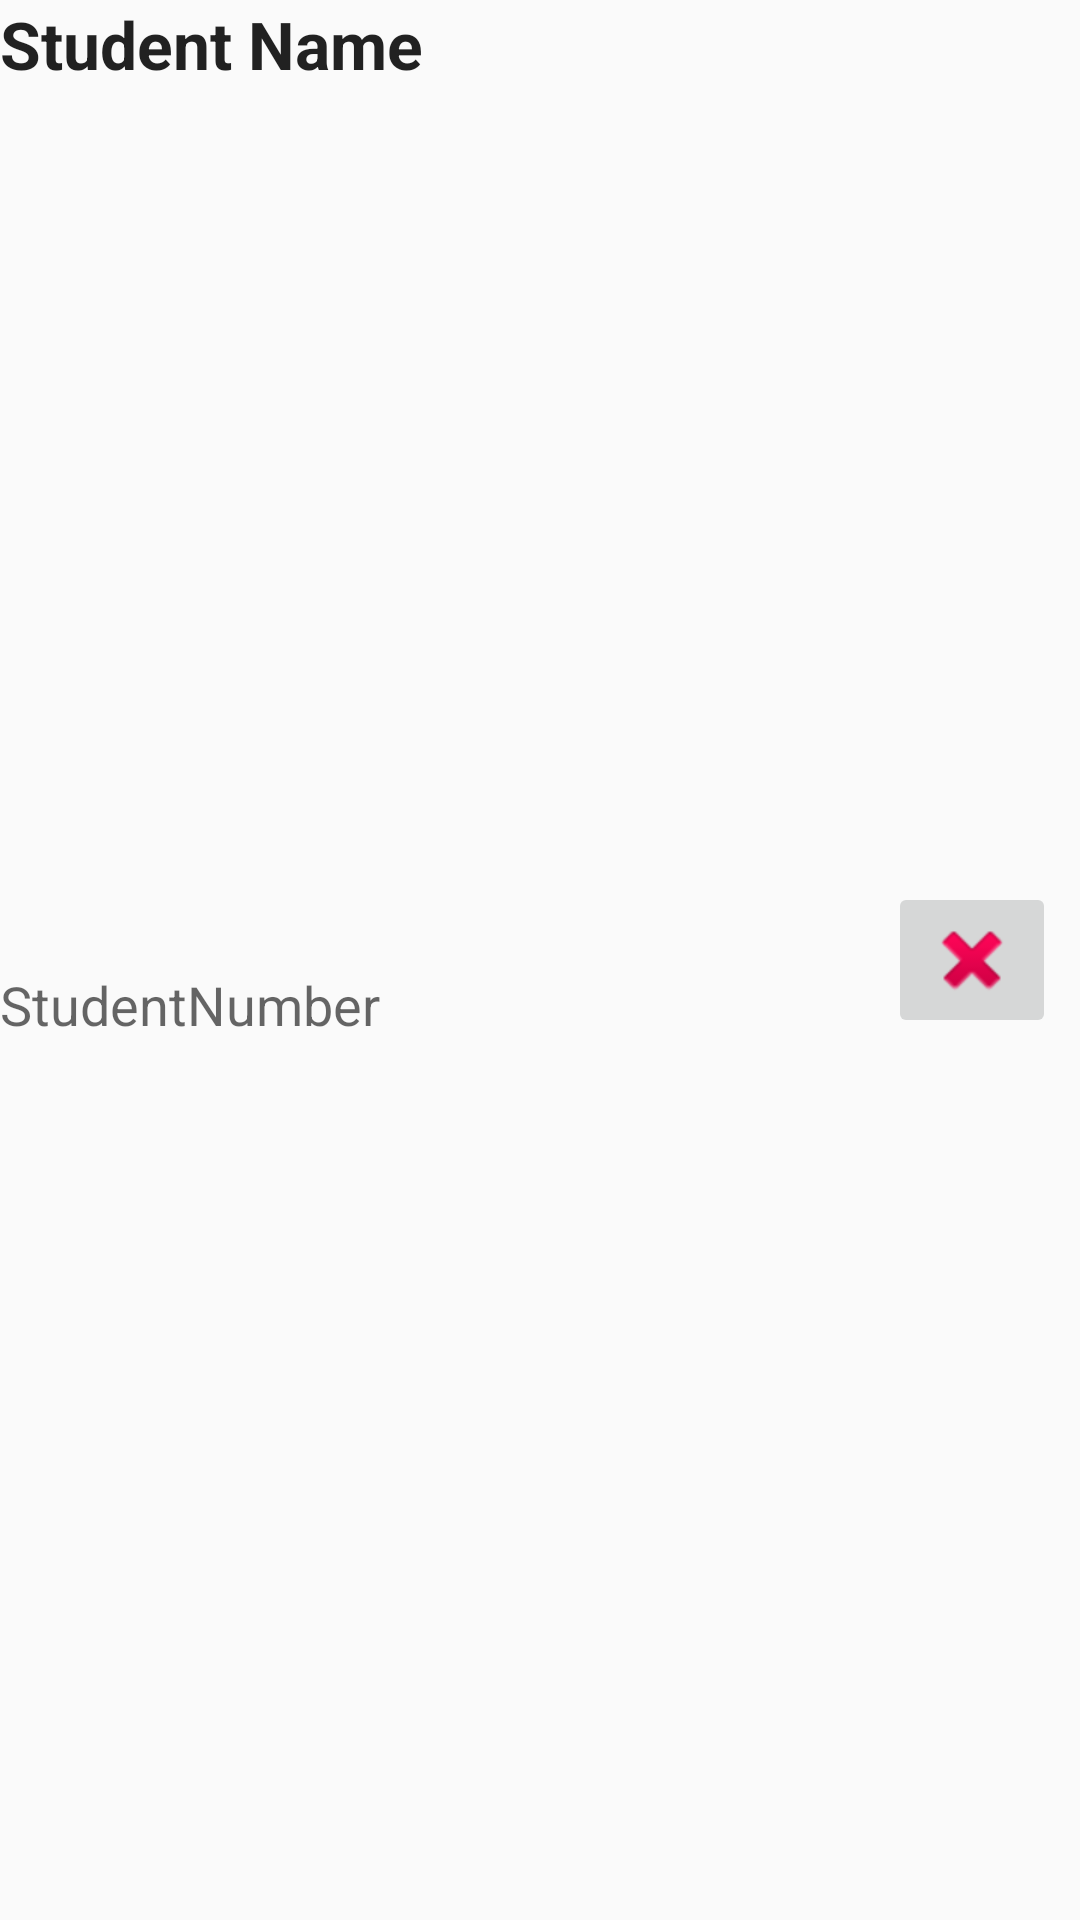

Named icons in this screenshot (1080px×1920px) and their centers, (x,y):
delete: (972,960)
